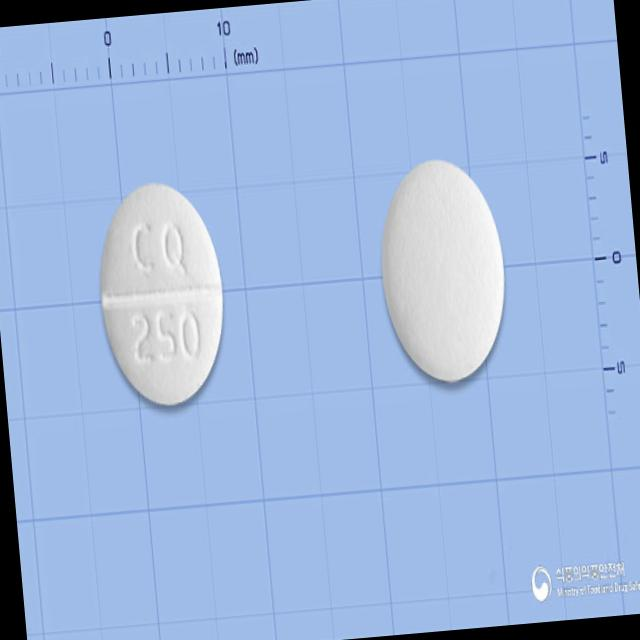Cq Robey: (91, 176, 232, 410)
